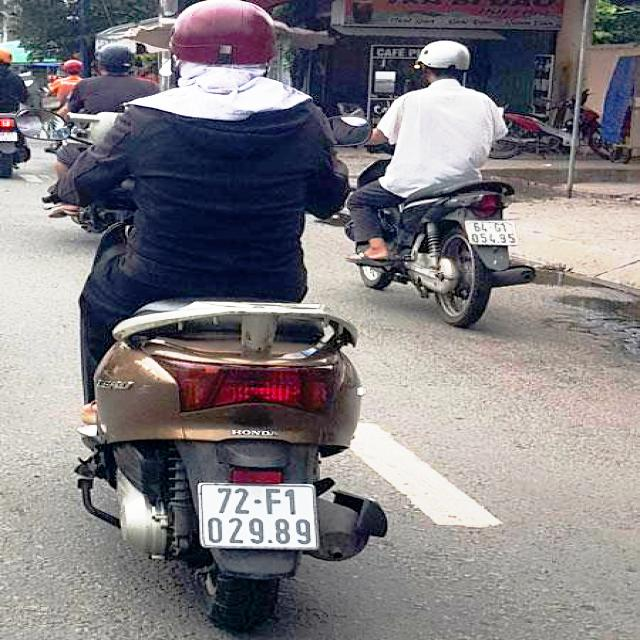license_plate: (205, 483, 318, 550), (468, 220, 523, 248)
